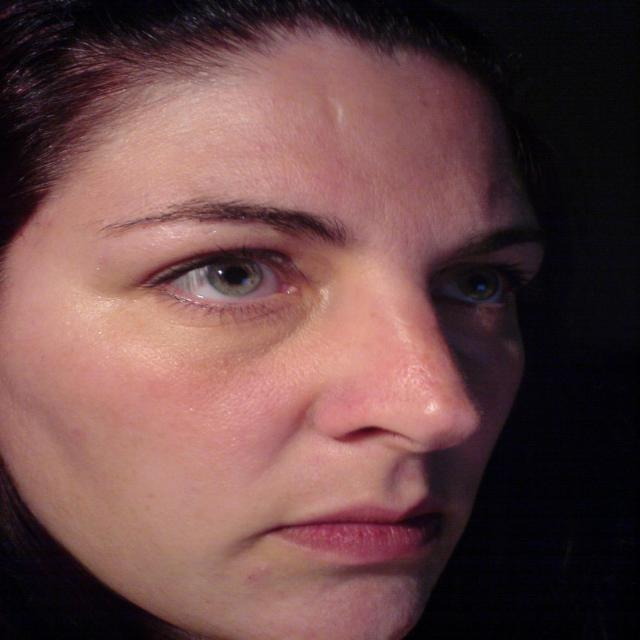no-glass: (135, 248, 543, 304)
